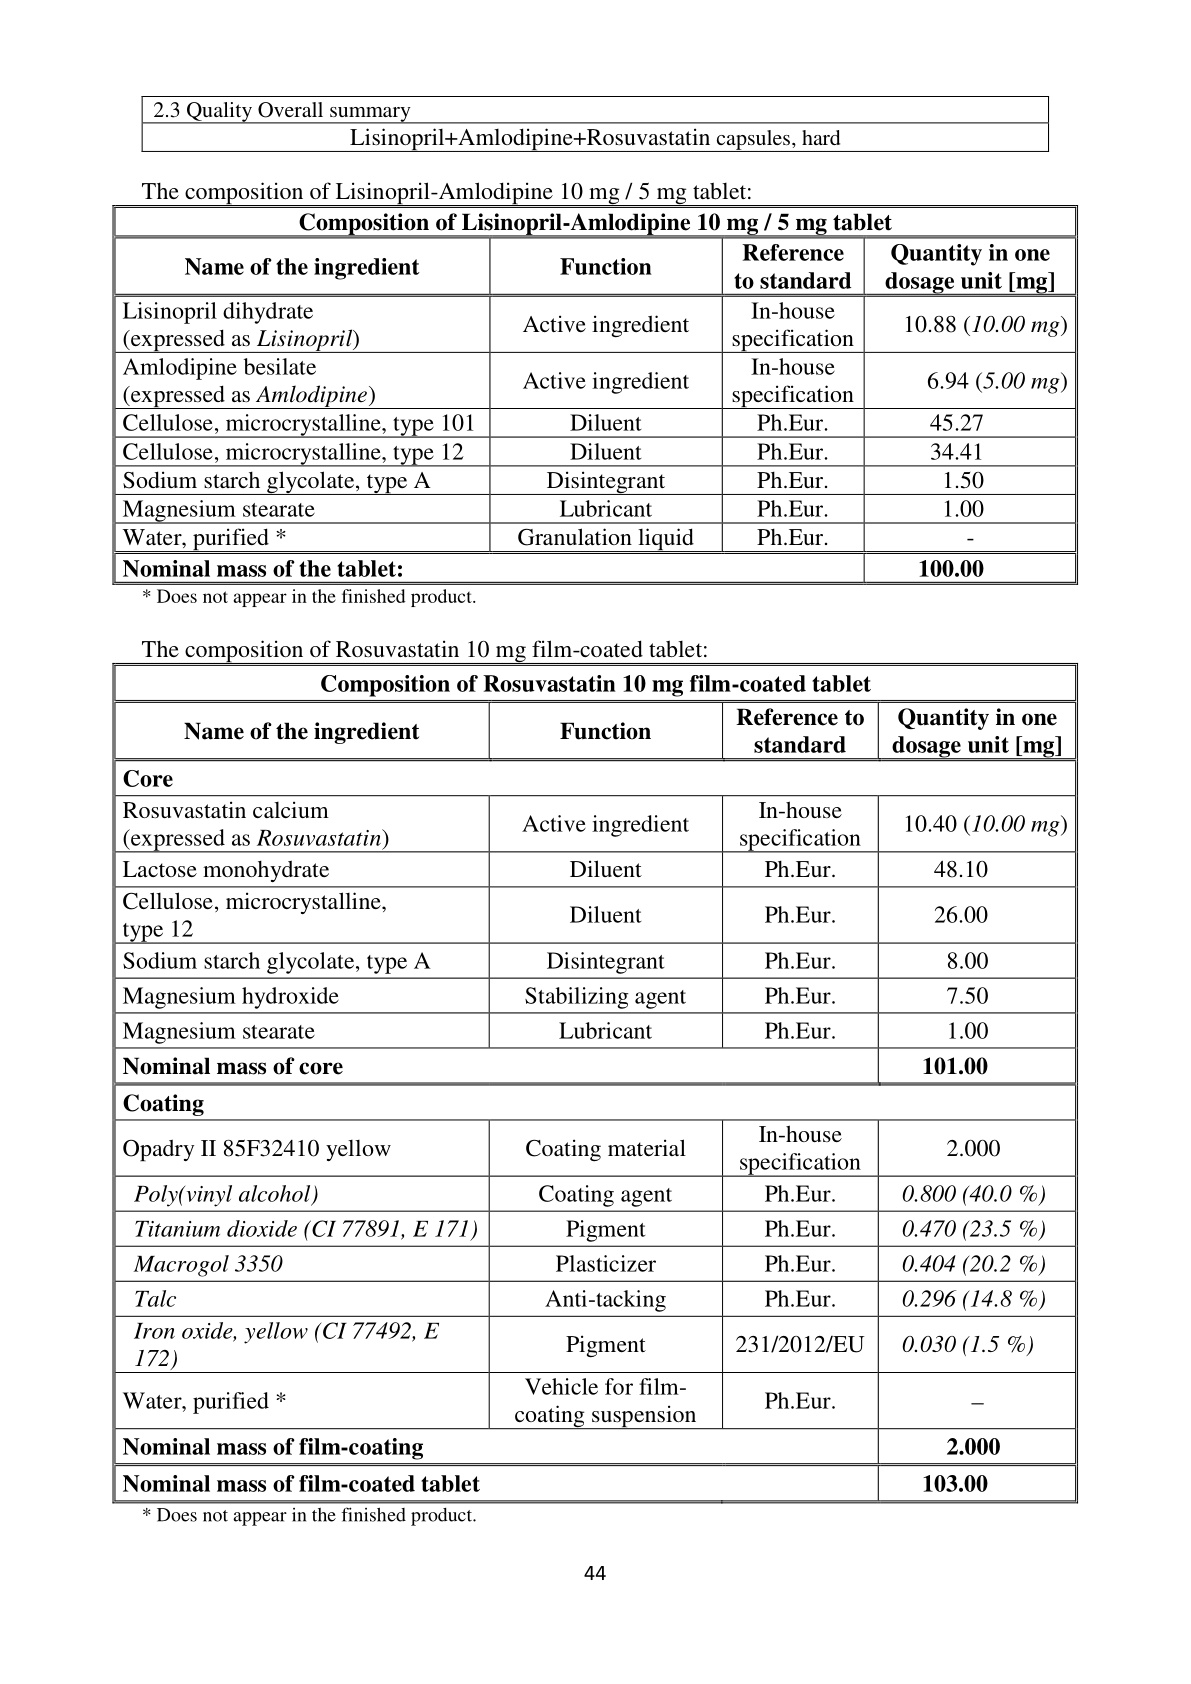full_lined: (140, 97, 1049, 152)
merged_cells: (112, 662, 1078, 1504), (111, 204, 1079, 585)
